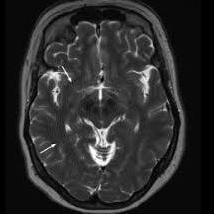Normal_Brain: (6, 1, 212, 211)
